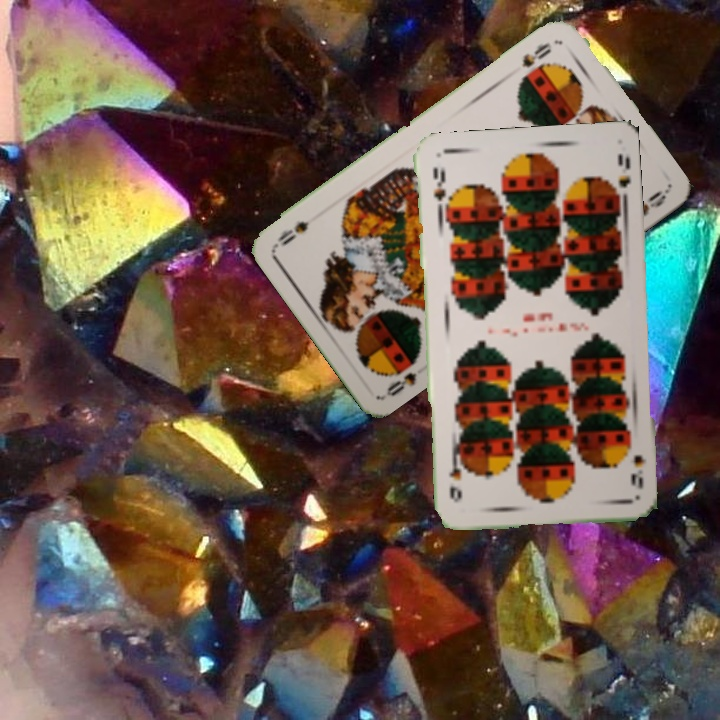S9: (428, 164, 449, 217), (627, 451, 648, 491)
SO: (382, 368, 420, 400), (517, 38, 554, 70)
